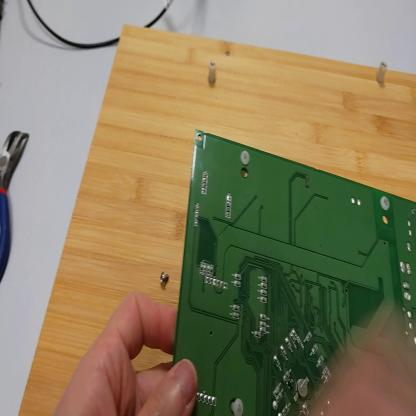hand: (55, 288, 199, 415), (308, 299, 414, 413)
low voltage board: (168, 131, 416, 415)
pliers: (2, 132, 30, 281)
working area: (20, 25, 414, 414)
